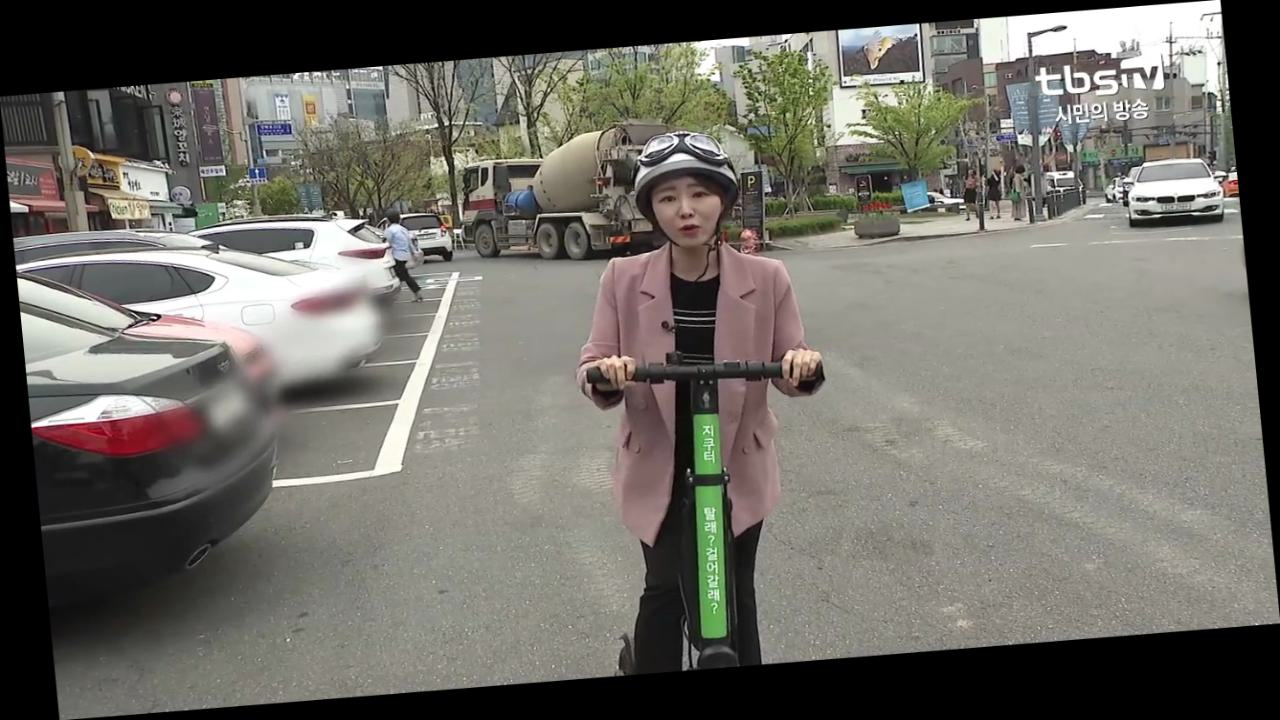helmet: (553, 120, 857, 677)
